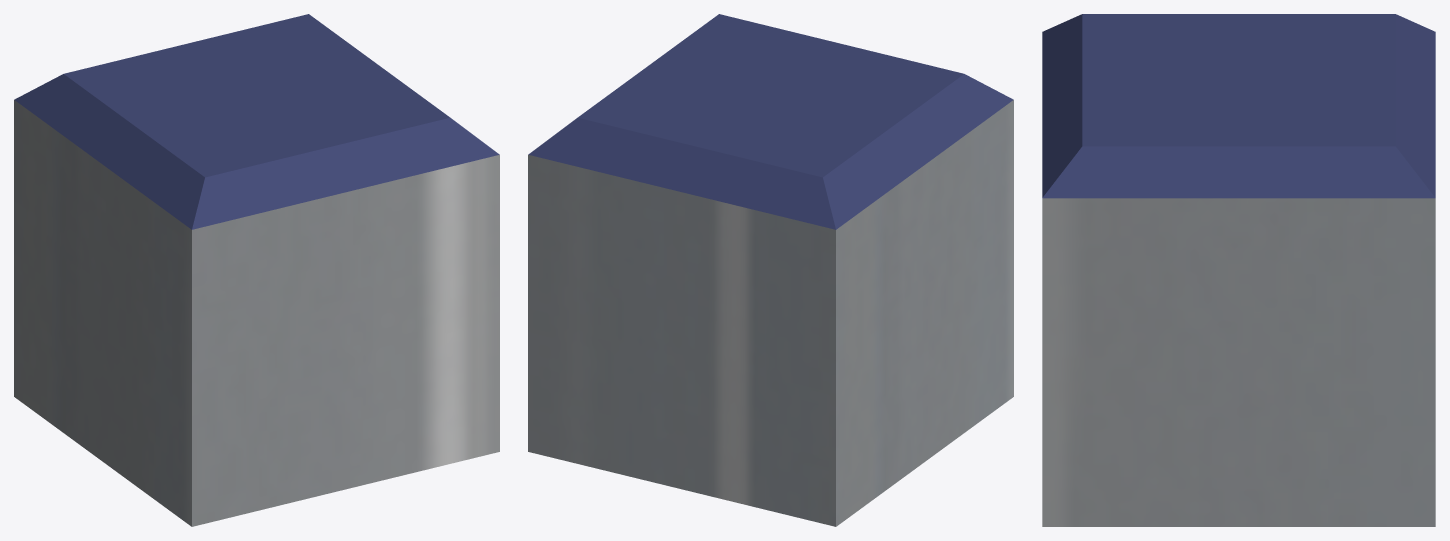
Rendered from SM_Minichaise.fbx.
The picture shows the model from 3 angles, left to right: view 1: azimuth 30°, elevation 25°; view 2: azimuth 150°, elevation 25°; view 3: azimuth 270°, elevation 25°; orthographic projection. The views are drawn at different scales.
Parts seen in each view (by area): view 1: minichaise; view 2: minichaise; view 3: minichaise.
Part boxes in pixels (left/top/right/bottom): minichaise: left=14, top=14, right=499, bottom=526; minichaise: left=528, top=14, right=1013, bottom=526; minichaise: left=1042, top=14, right=1435, bottom=526.
Size of the model in its own units: 100 by 100 by 102.
Materials: 1 (1 with a texture image).
